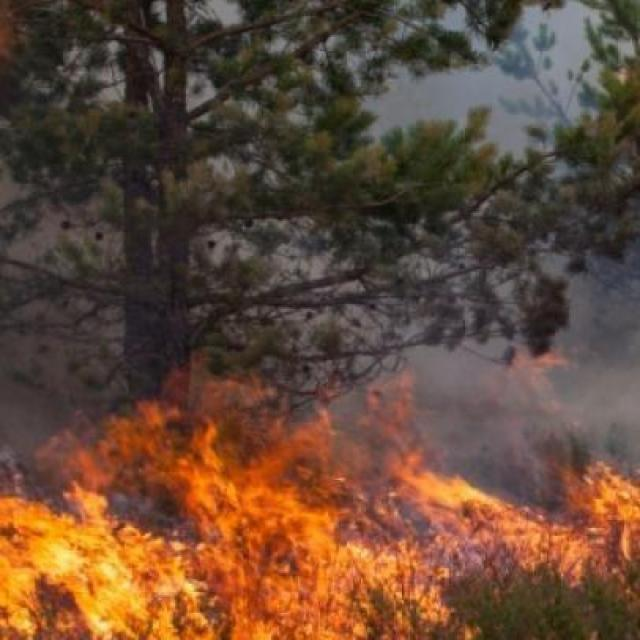Fire: (0, 365, 636, 640), (15, 458, 233, 636), (275, 483, 368, 624), (445, 464, 518, 571)
Smoke: (0, 127, 640, 352)
